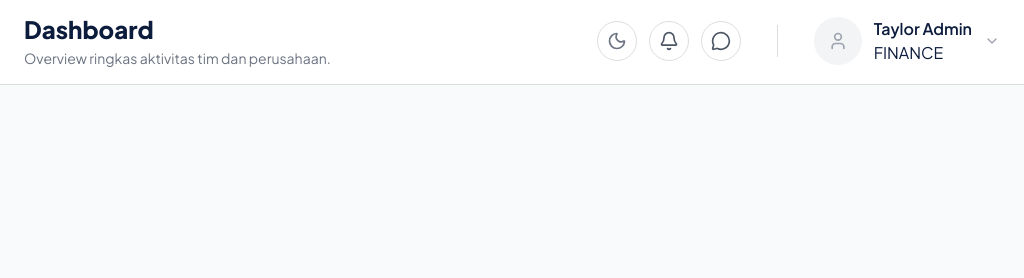
it: Header smoke › shows actionable dropdown items and removes placeholders
Click the button with test id "header-profile-toggle". click: (907, 41)
box: 814,17 -> 1000,65
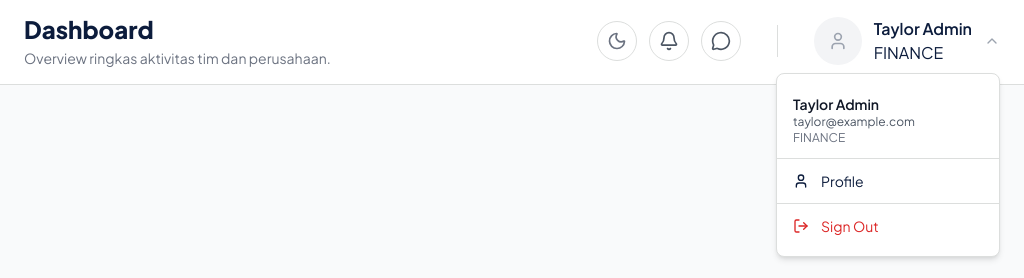
Now the button with test id "header-profile-toggle" is expanded, box 814,17 -> 1000,65
Now the text "Profile" is shown, box 793,172 -> 864,190
Now the text "Sign Out" is shown, box 777,208 -> 999,244
